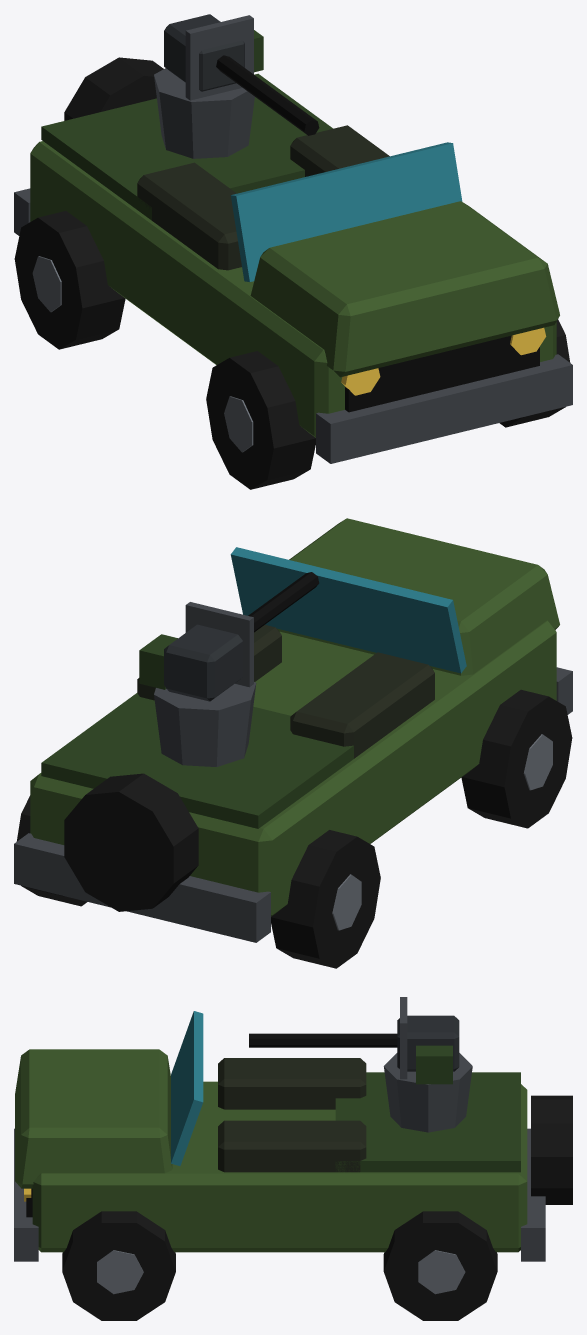
File: env_jeep.glb
3 views of the same model, one above another, from view 1: azimuth 30°, elevation 25°; view 2: azimuth 150°, elevation 25°; view 3: azimuth 270°, elevation 25° (orthographic). The views are drawn at different scales.
Parts seen in each view (by area): view 1: body, turret; view 2: body, turret; view 3: body, turret.
Part boxes in pixels (box(x1,y1,x2,y2)): body: box(14, 57, 572, 489); turret: box(164, 14, 319, 135); body: box(14, 518, 572, 968); turret: box(139, 572, 319, 701); body: box(14, 1011, 572, 1320); turret: box(249, 997, 459, 1084).
Bounding box in the file's own units: 2.36 × 2.23 × 4.52.
Materials: 1 (1 with a texture image).
